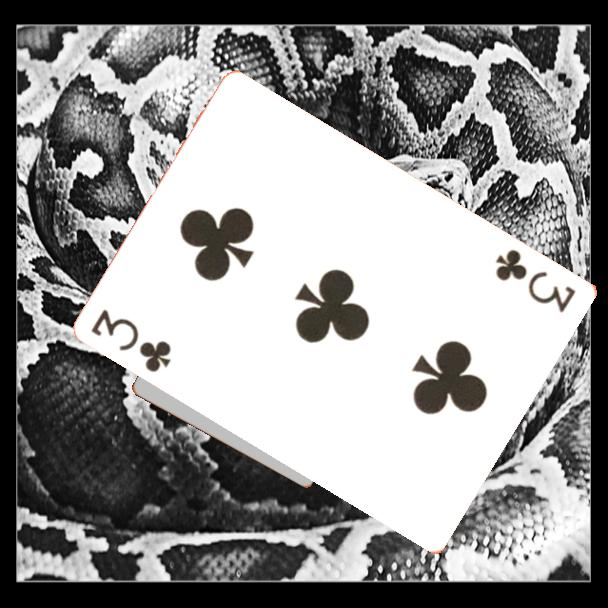c03: (492, 245, 580, 316), (88, 305, 175, 375)
